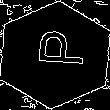P_W: (26, 35, 84, 75)
